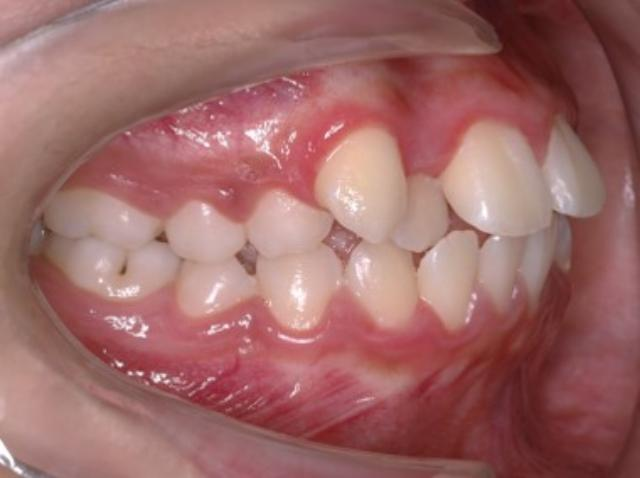canine class II 1/4: (256, 108, 422, 341)
molar class I: (34, 188, 180, 312)
